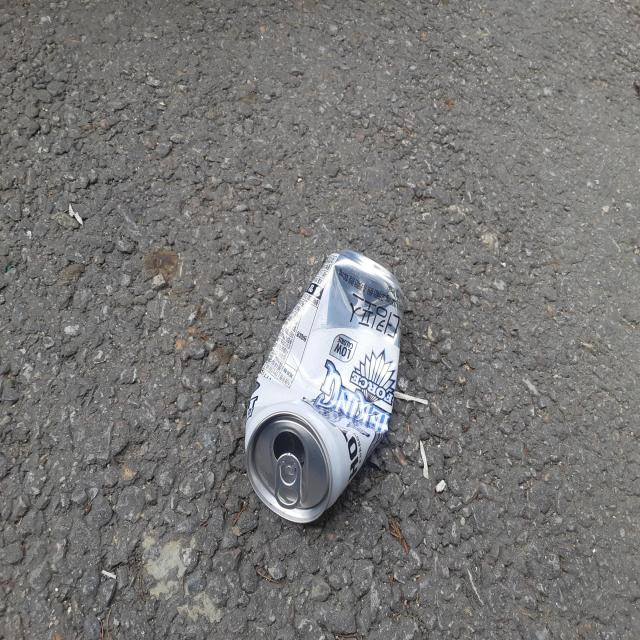can: (245, 250, 404, 523)
